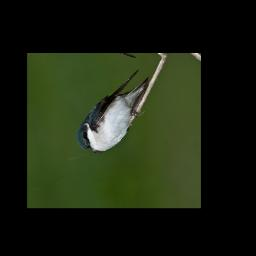Swallow: (65, 67, 162, 161)
